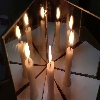fire: (48, 44, 53, 63)
